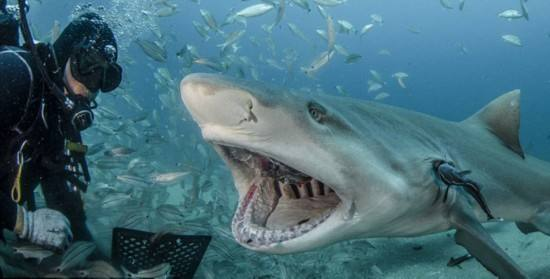shark: (182, 70, 549, 255)
